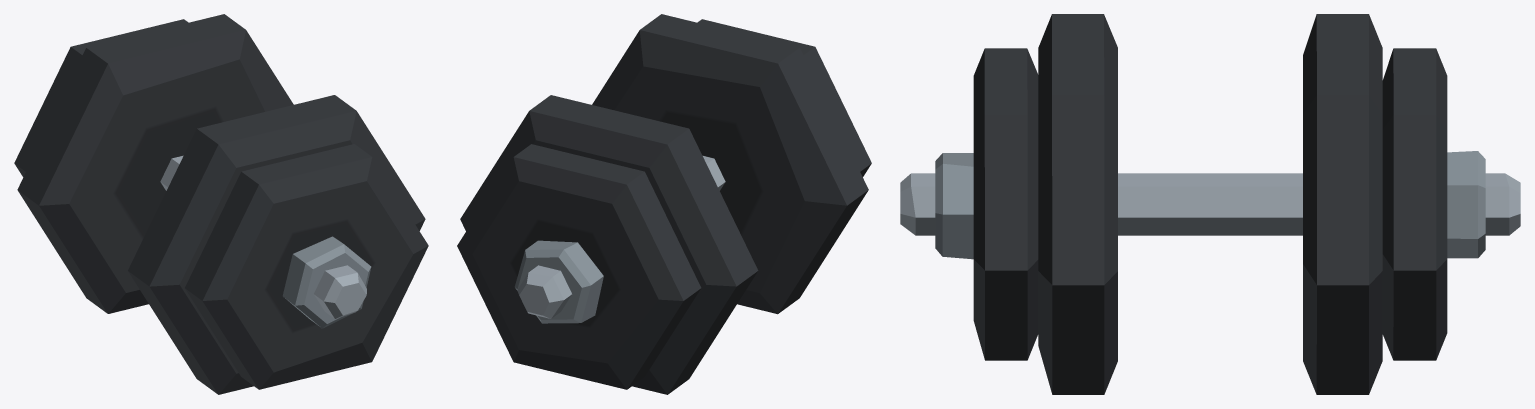
The model's file is SM_Prop_Dumbbell_02.fbx.
The picture shows the model from 3 angles, left to right: view 1: azimuth 30°, elevation 25°; view 2: azimuth 150°, elevation 25°; view 3: azimuth 270°, elevation 25°; orthographic projection. The views are drawn at different scales.
Parts seen in each view (by area): view 1: SM_Prop_Dumbbell_02; view 2: SM_Prop_Dumbbell_02; view 3: SM_Prop_Dumbbell_02.
Boxes of the visible parts, <box> form: SM_Prop_Dumbbell_02: <box>14,14,428,394</box>; SM_Prop_Dumbbell_02: <box>457,14,871,394</box>; SM_Prop_Dumbbell_02: <box>900,14,1520,394</box>.
Bounding box in the file's own units: 29.29 × 25.37 × 47.5.
